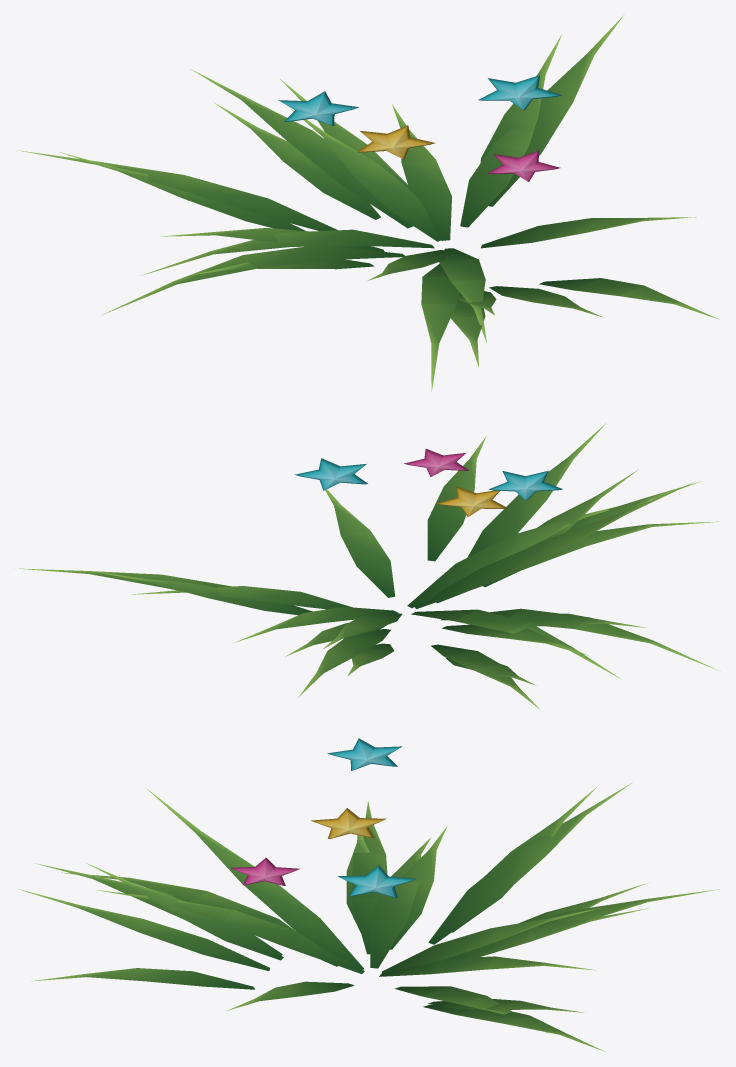
Rendered from cel_grass.glb.
The picture shows the model from 3 angles, top to bottom: view 1: azimuth 30°, elevation 25°; view 2: azimuth 150°, elevation 25°; view 3: azimuth 270°, elevation 25°; orthographic projection. The views are drawn at different scales.
Parts seen in each view (by area): view 1: grass; view 2: grass; view 3: grass.
Part boxes in pixels (x1,y1,x2,y2): grass: (18, 14, 719, 391); grass: (14, 423, 720, 708); grass: (18, 738, 718, 1051).
Bounding box in the file's own units: 1.93 × 0.4787 × 1.94.
